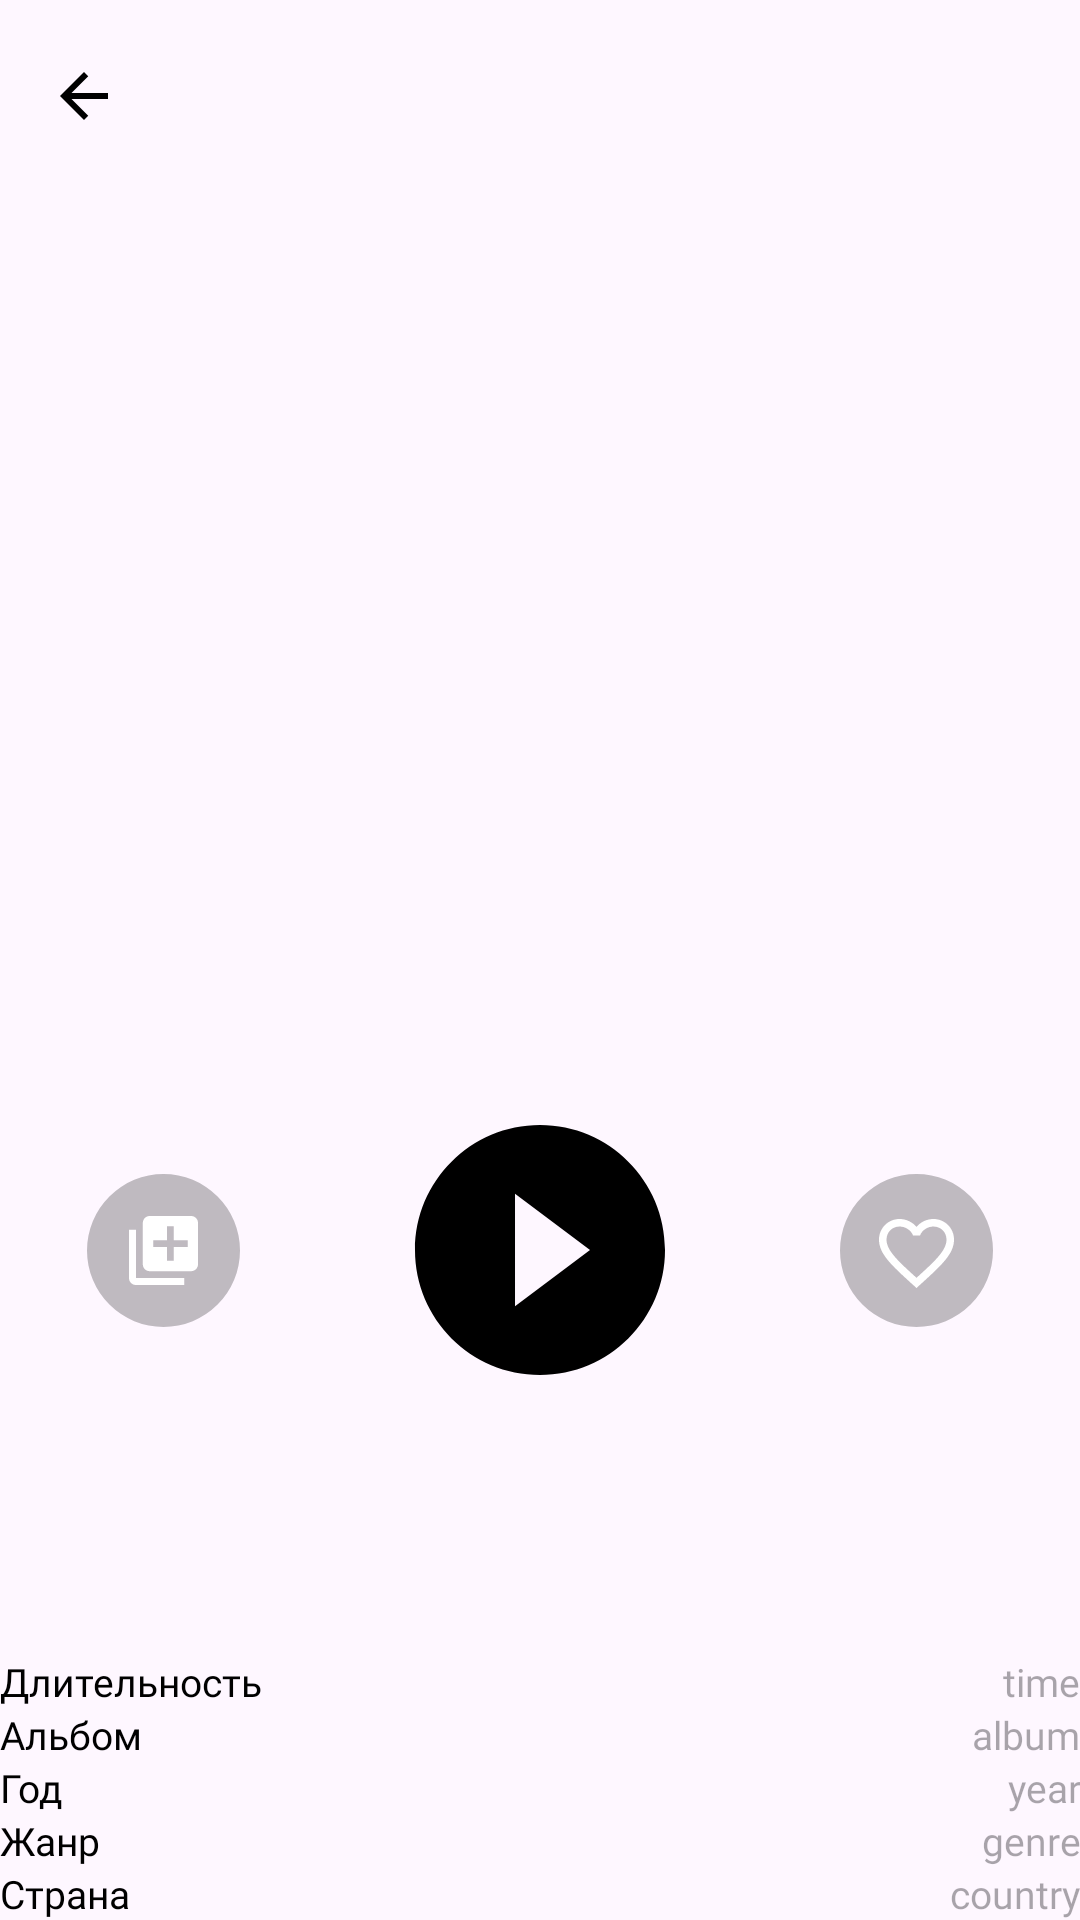

Named icons in this screenshot (1080 × 1920) and their centers, point (x, y):
add: point (163, 1250)
favorites: point (916, 1250)
play: point (540, 1250)
